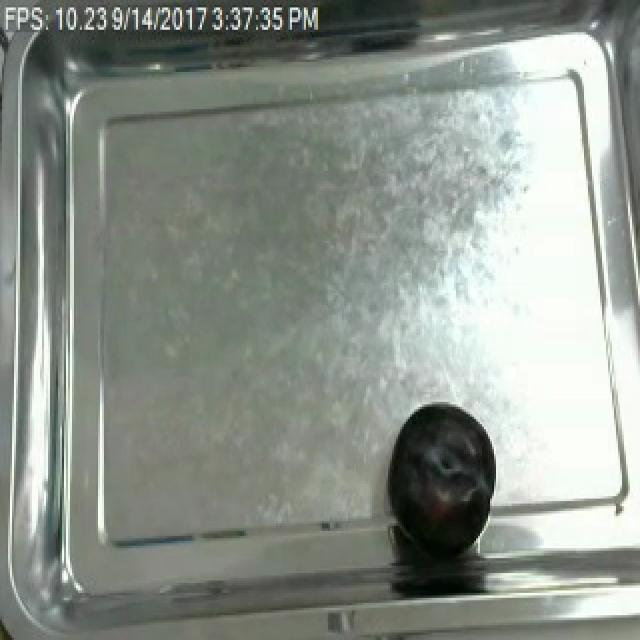Fruit: (382, 397, 504, 556)
